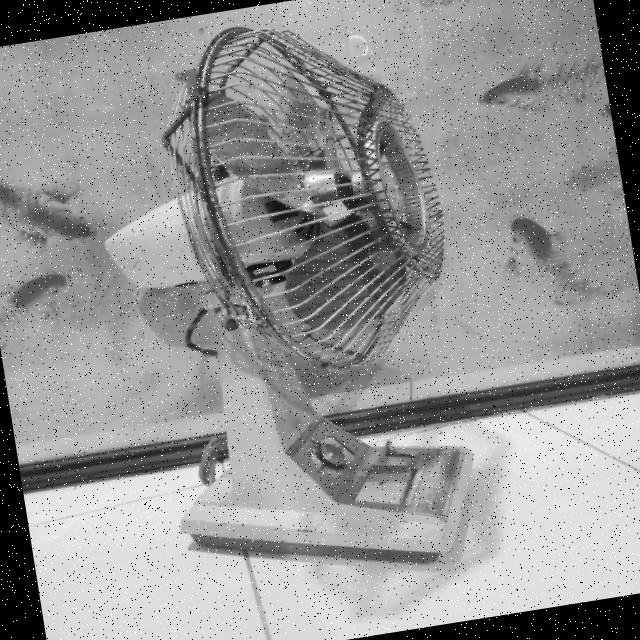fan: (67, 0, 492, 606)
